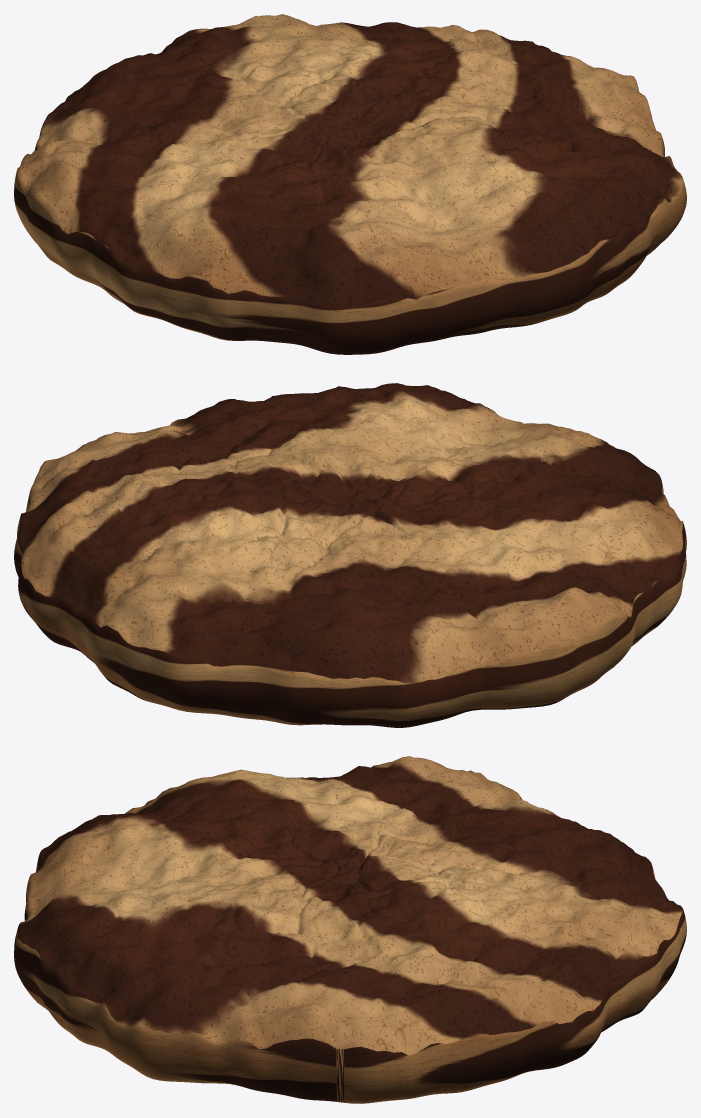
The model's file is marble.glb.
3 renders of one model, top to bottom at view 1: azimuth 30°, elevation 25°; view 2: azimuth 150°, elevation 25°; view 3: azimuth 270°, elevation 25°, orthographic. The views are drawn at different scales.
Parts seen in each view (by area): view 1: Builder dough | marble; view 2: Builder dough | marble; view 3: Builder dough | marble.
Part boxes in pixels (x1,y1,x2,y2): Builder dough | marble: (14, 14, 686, 354); Builder dough | marble: (14, 383, 686, 727); Builder dough | marble: (14, 756, 686, 1103).
Bounding box in the file's own units: 4.99 × 0.8773 × 4.98.
Materials: 2 (2 with a texture image).
